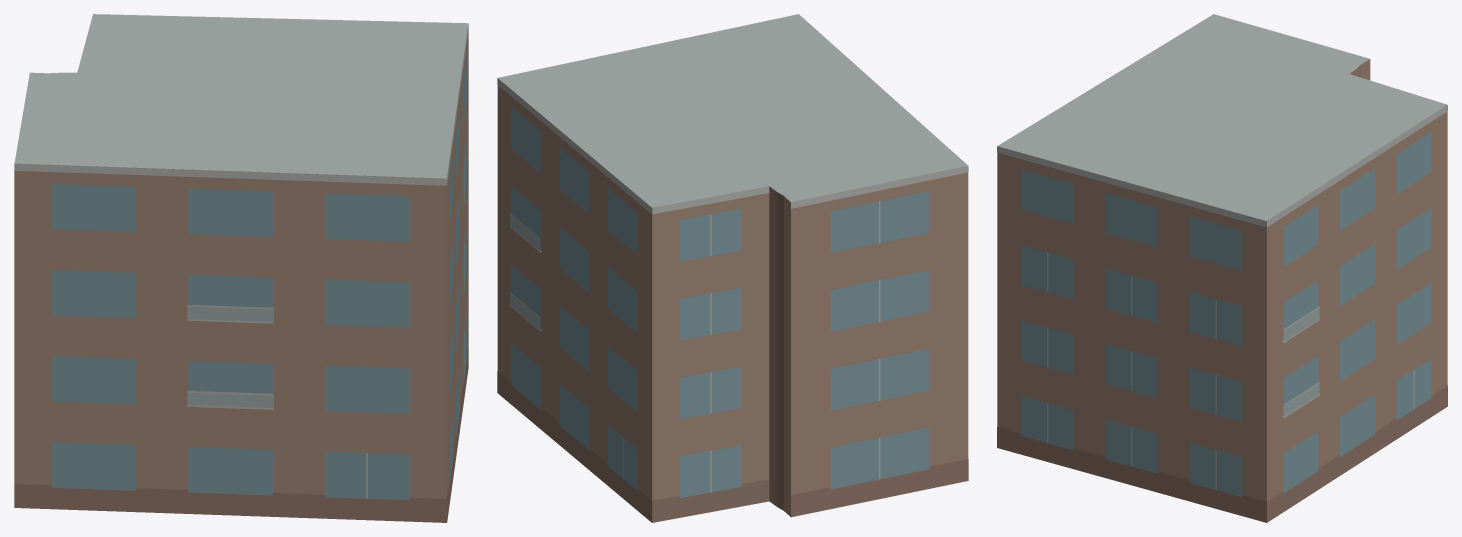
File: survey-upis-32853575.glb
3 renders of one model, left to right at view 1: azimuth 30°, elevation 25°; view 2: azimuth 150°, elevation 25°; view 3: azimuth 270°, elevation 25°, orthographic. The views are drawn at different scales.
Visible parts, largest first — view 1: survey-upis-32853575.tmp; view 2: survey-upis-32853575.tmp; view 3: survey-upis-32853575.tmp.
Part boxes in pixels (bbox=[...]): survey-upis-32853575.tmp: bbox=[14, 14, 468, 522]; survey-upis-32853575.tmp: bbox=[497, 14, 968, 522]; survey-upis-32853575.tmp: bbox=[997, 14, 1447, 522].
Size of the model in its own units: 17.09 by 11.6 by 15.71.
